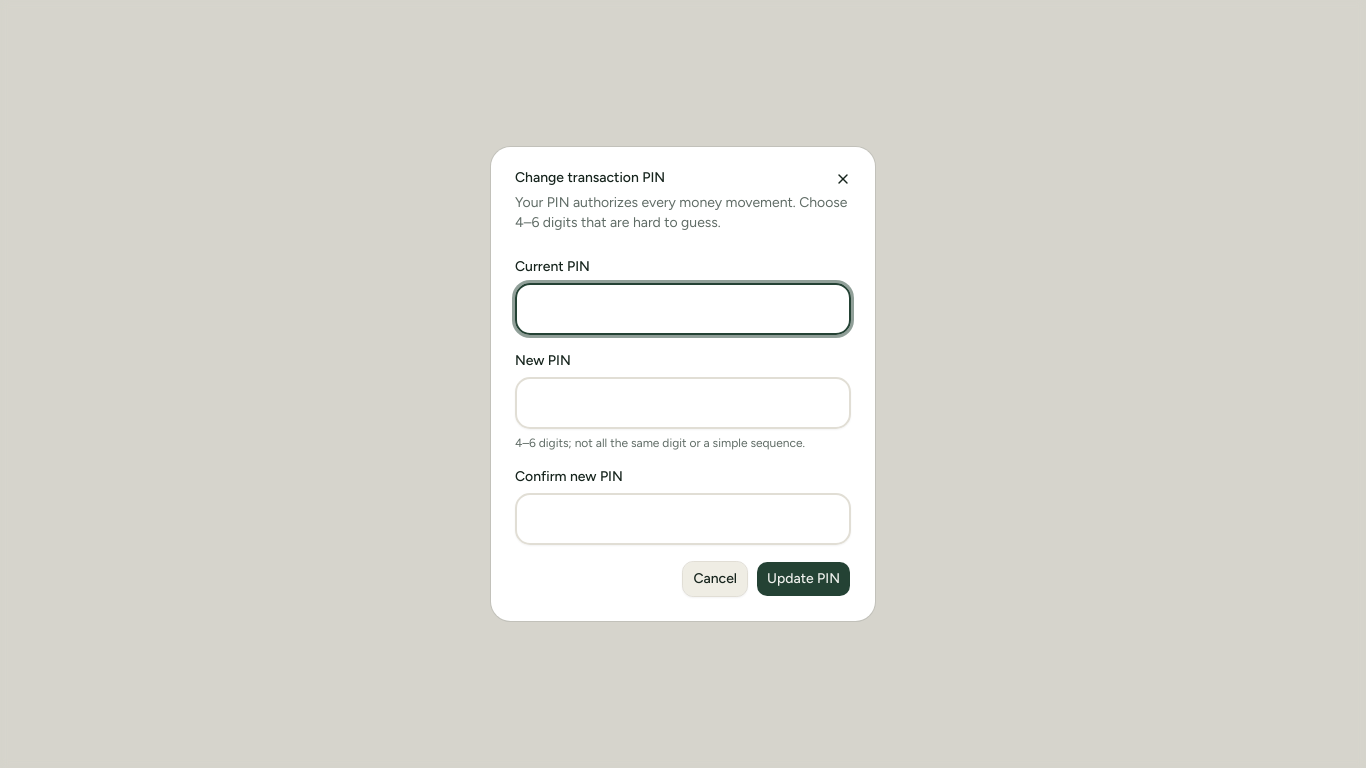
Test: ChangePinDialog › submits currentPin + newPin and shows the success state
Type "1234" into the password field labelled "Current PIN" at (683, 309), box [515,283,851,335]
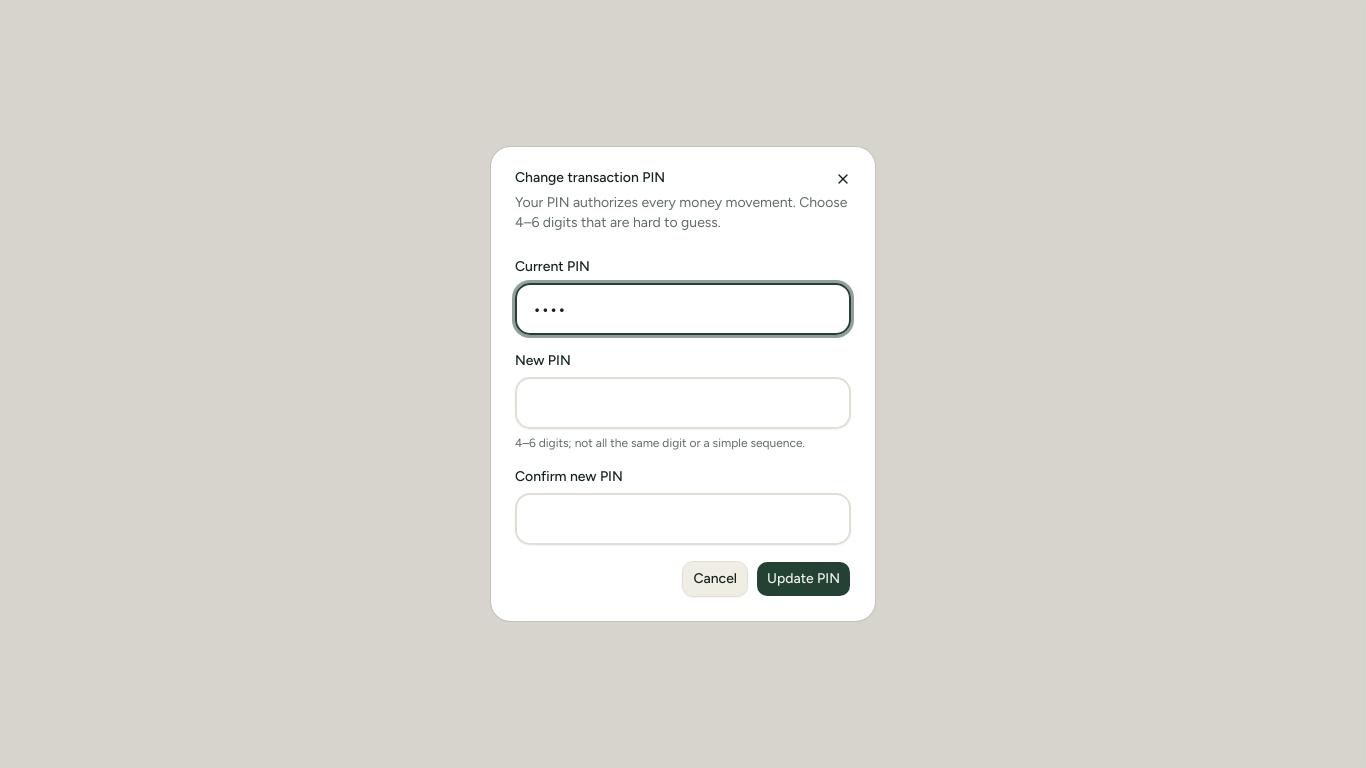
Type "2468" into the password field labelled "New PIN" at (683, 403), box [515,377,851,429]
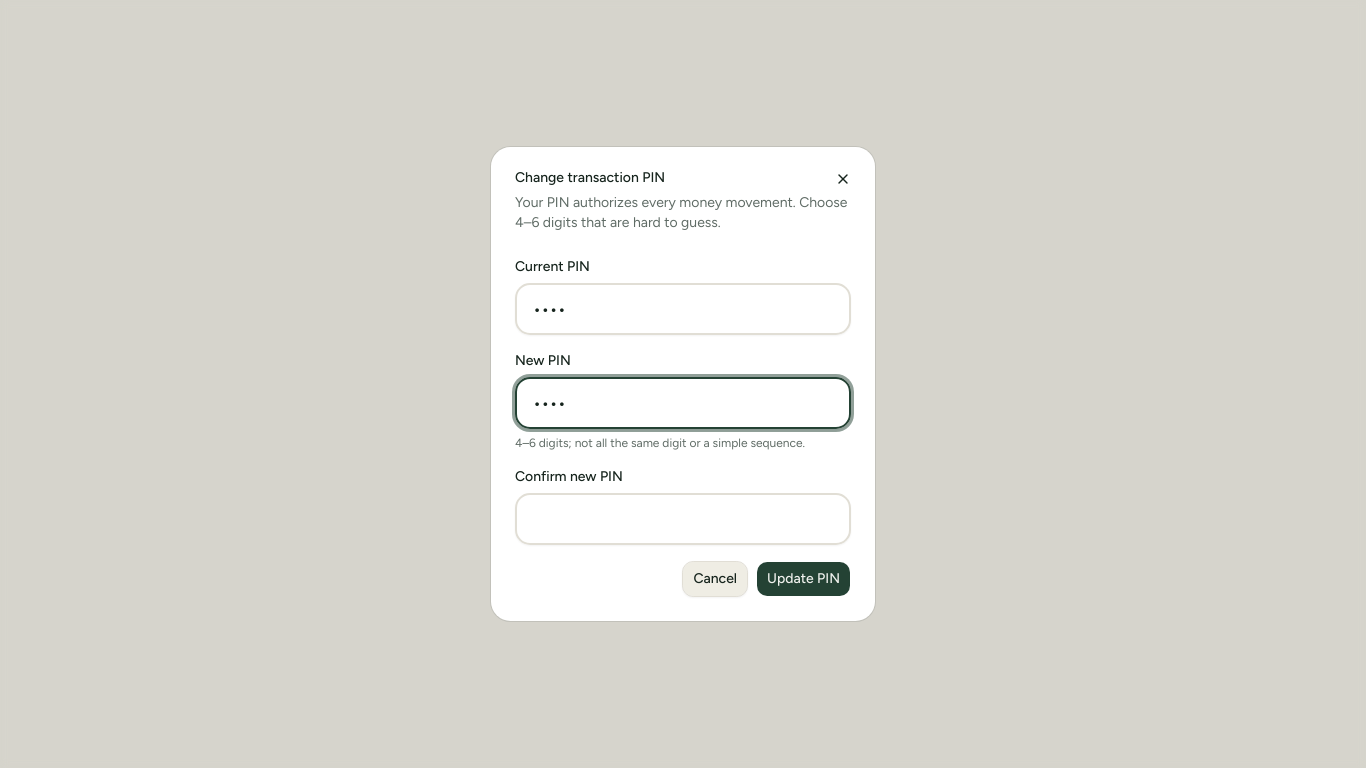
Type "2468" into the password field labelled "Confirm new PIN" at (683, 519), box [515,493,851,545]
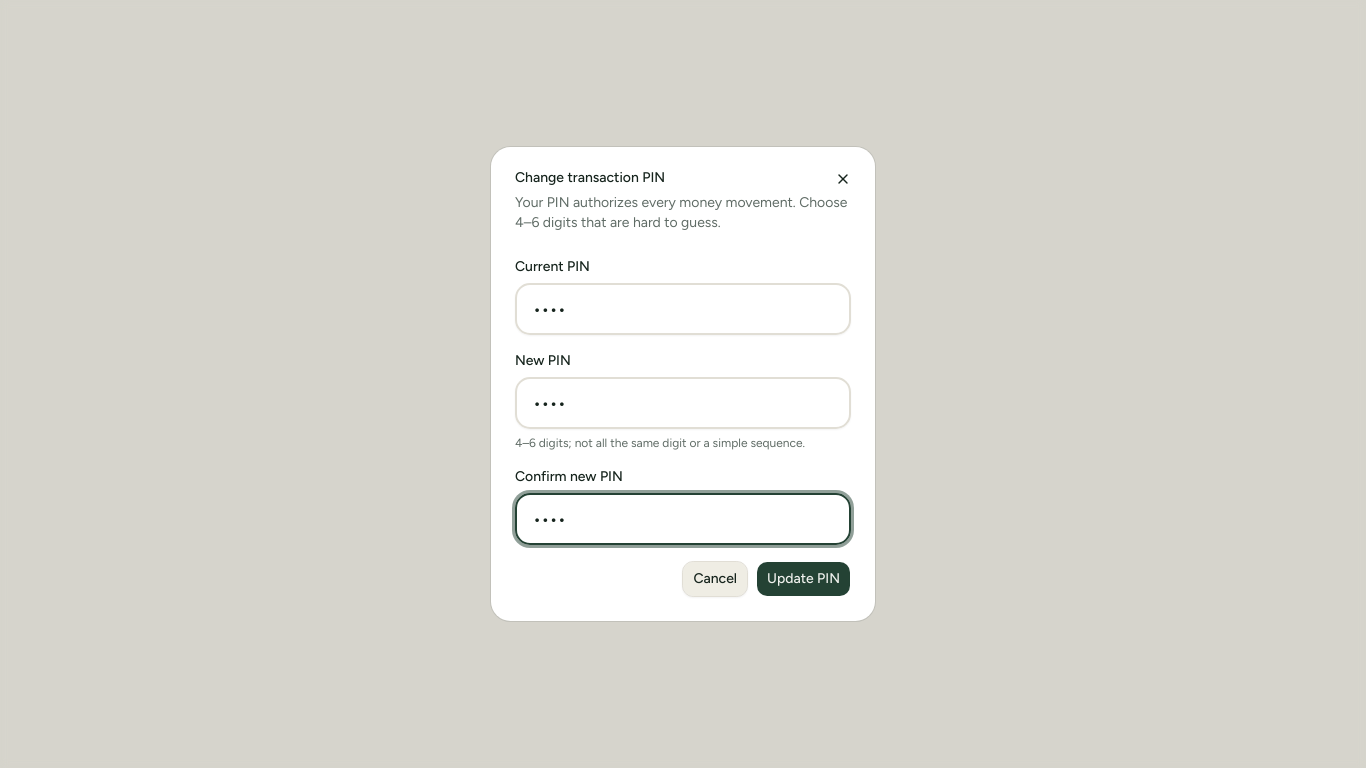
Click the button "Update PIN" at (804, 579), box [756,561,851,597]
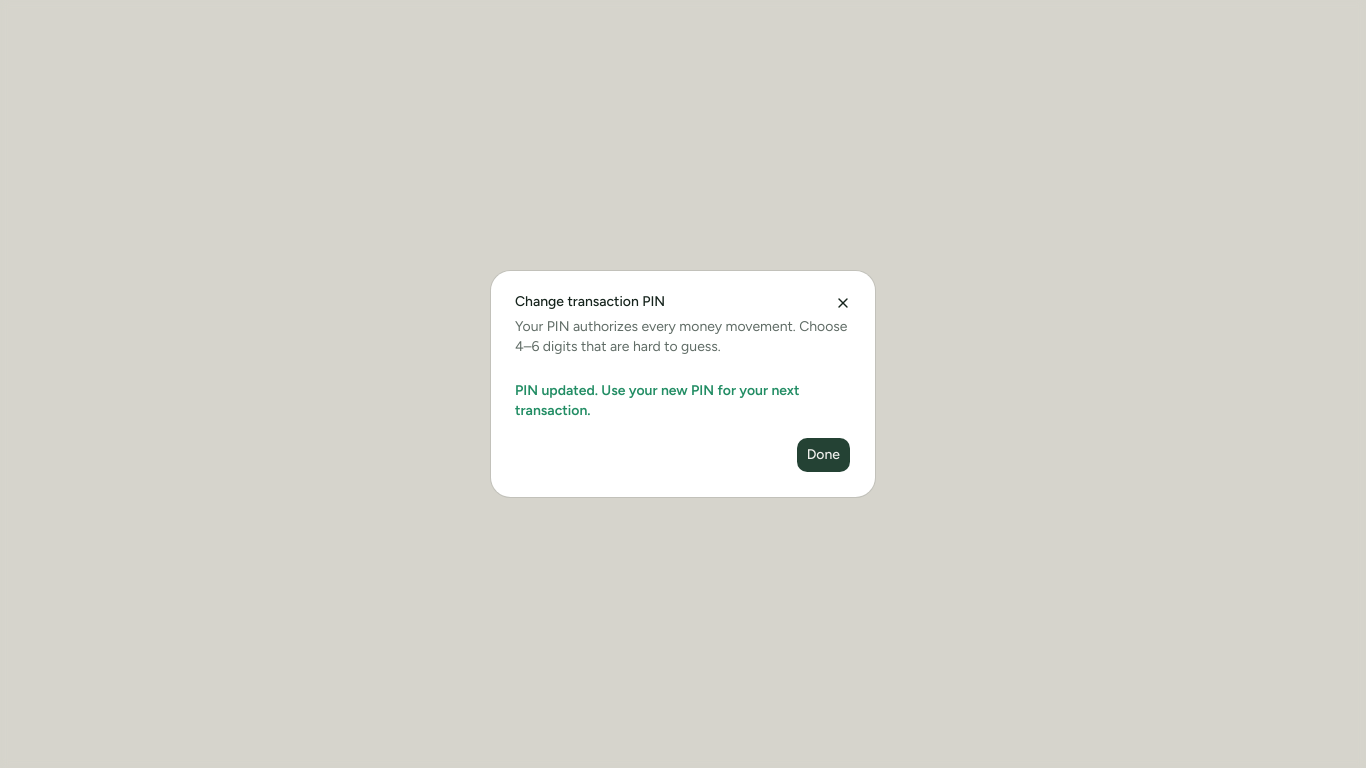
Result: the text "PIN updated. Use your new PIN for your next transaction." is shown at [515,382,800,419]
